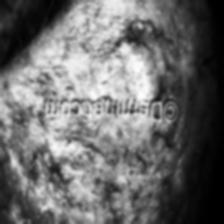Potentially Malignant Skin Tumors: (38, 119, 175, 176), (57, 40, 169, 92)
